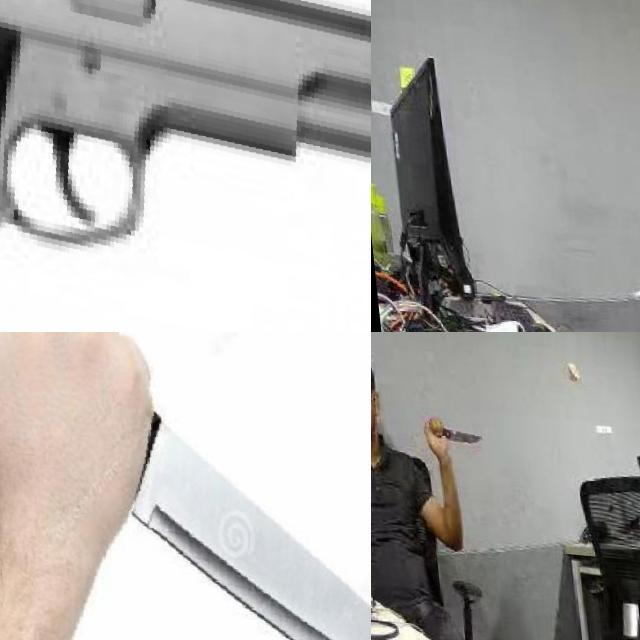-: (2, 332, 371, 640), (419, 407, 479, 458), (614, 267, 640, 308)
gun-knife-thesis - v11 Yolov5 augmented: (0, 0, 371, 332)
